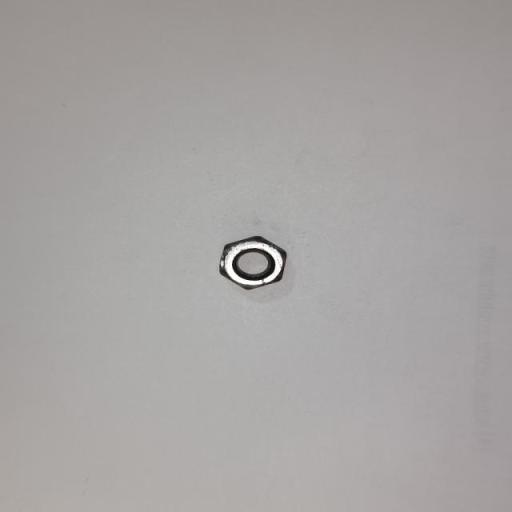Nut: (219, 235, 287, 291)
